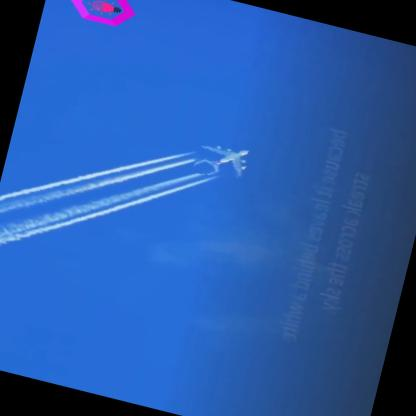plane: (190, 128, 261, 184)
